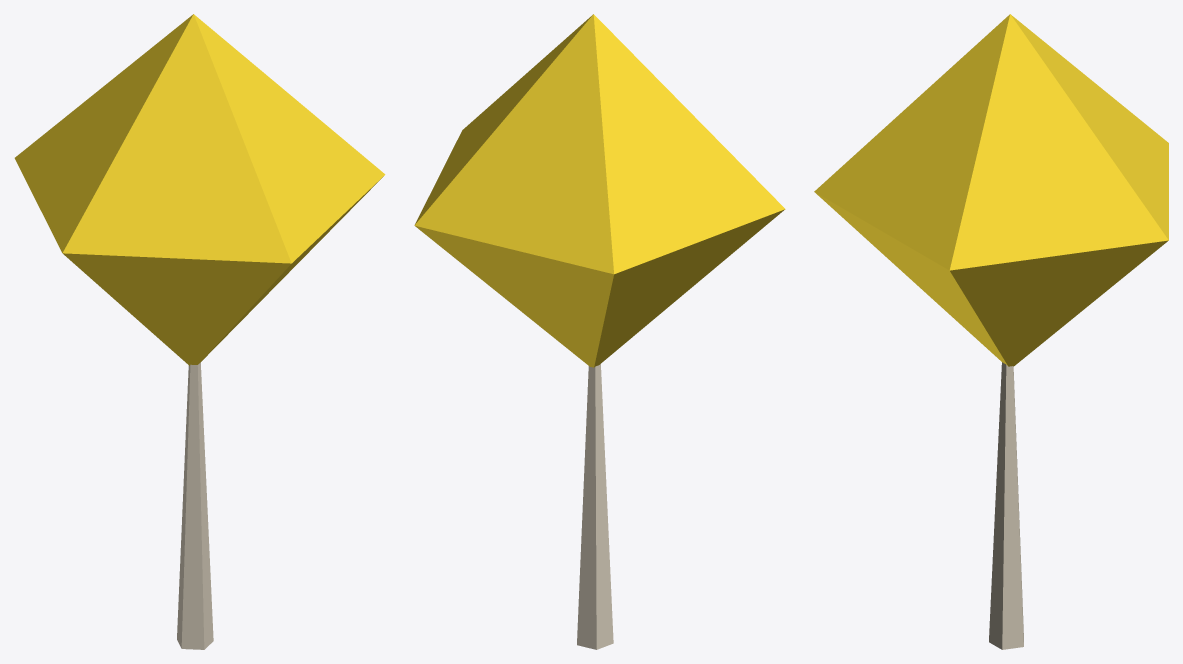
File: land_tree_toy_lollipop_yellow_far.glb
3 views of the same model, side by side, from view 1: azimuth 30°, elevation 25°; view 2: azimuth 150°, elevation 25°; view 3: azimuth 270°, elevation 25° (orthographic).
Size of the model in its own units: 4.57 by 8.48 by 4.34.
